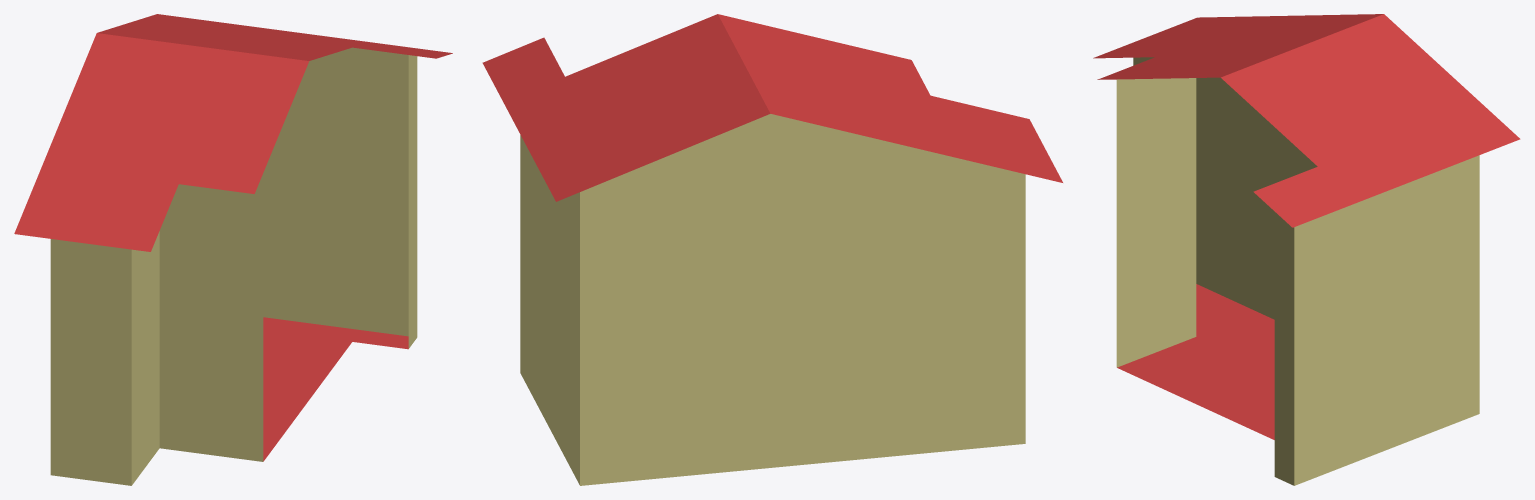
The picture shows the model from 3 angles, left to right: view 1: azimuth 30°, elevation 25°; view 2: azimuth 150°, elevation 25°; view 3: azimuth 270°, elevation 25°; orthographic projection. The views are drawn at different scales.
Visible parts, largest first — view 1: group_5, group_3, group_6, group_4; view 2: group_5, group_3; view 3: group_5, group_3, group_6.
Part boxes in pixels (box(x1,y1,x2,y2)): group_5: box(50, 47, 417, 485); group_3: box(14, 14, 452, 251); group_6: box(263, 317, 408, 461); group_4: box(162, 52, 451, 192); group_5: box(520, 114, 1025, 485); group_3: box(482, 14, 1062, 201); group_5: box(1116, 57, 1479, 485); group_3: box(1093, 14, 1520, 227); group_6: box(1117, 284, 1274, 439).
Size of the model in its own units: 14.47 by 11.04 by 9.61.
